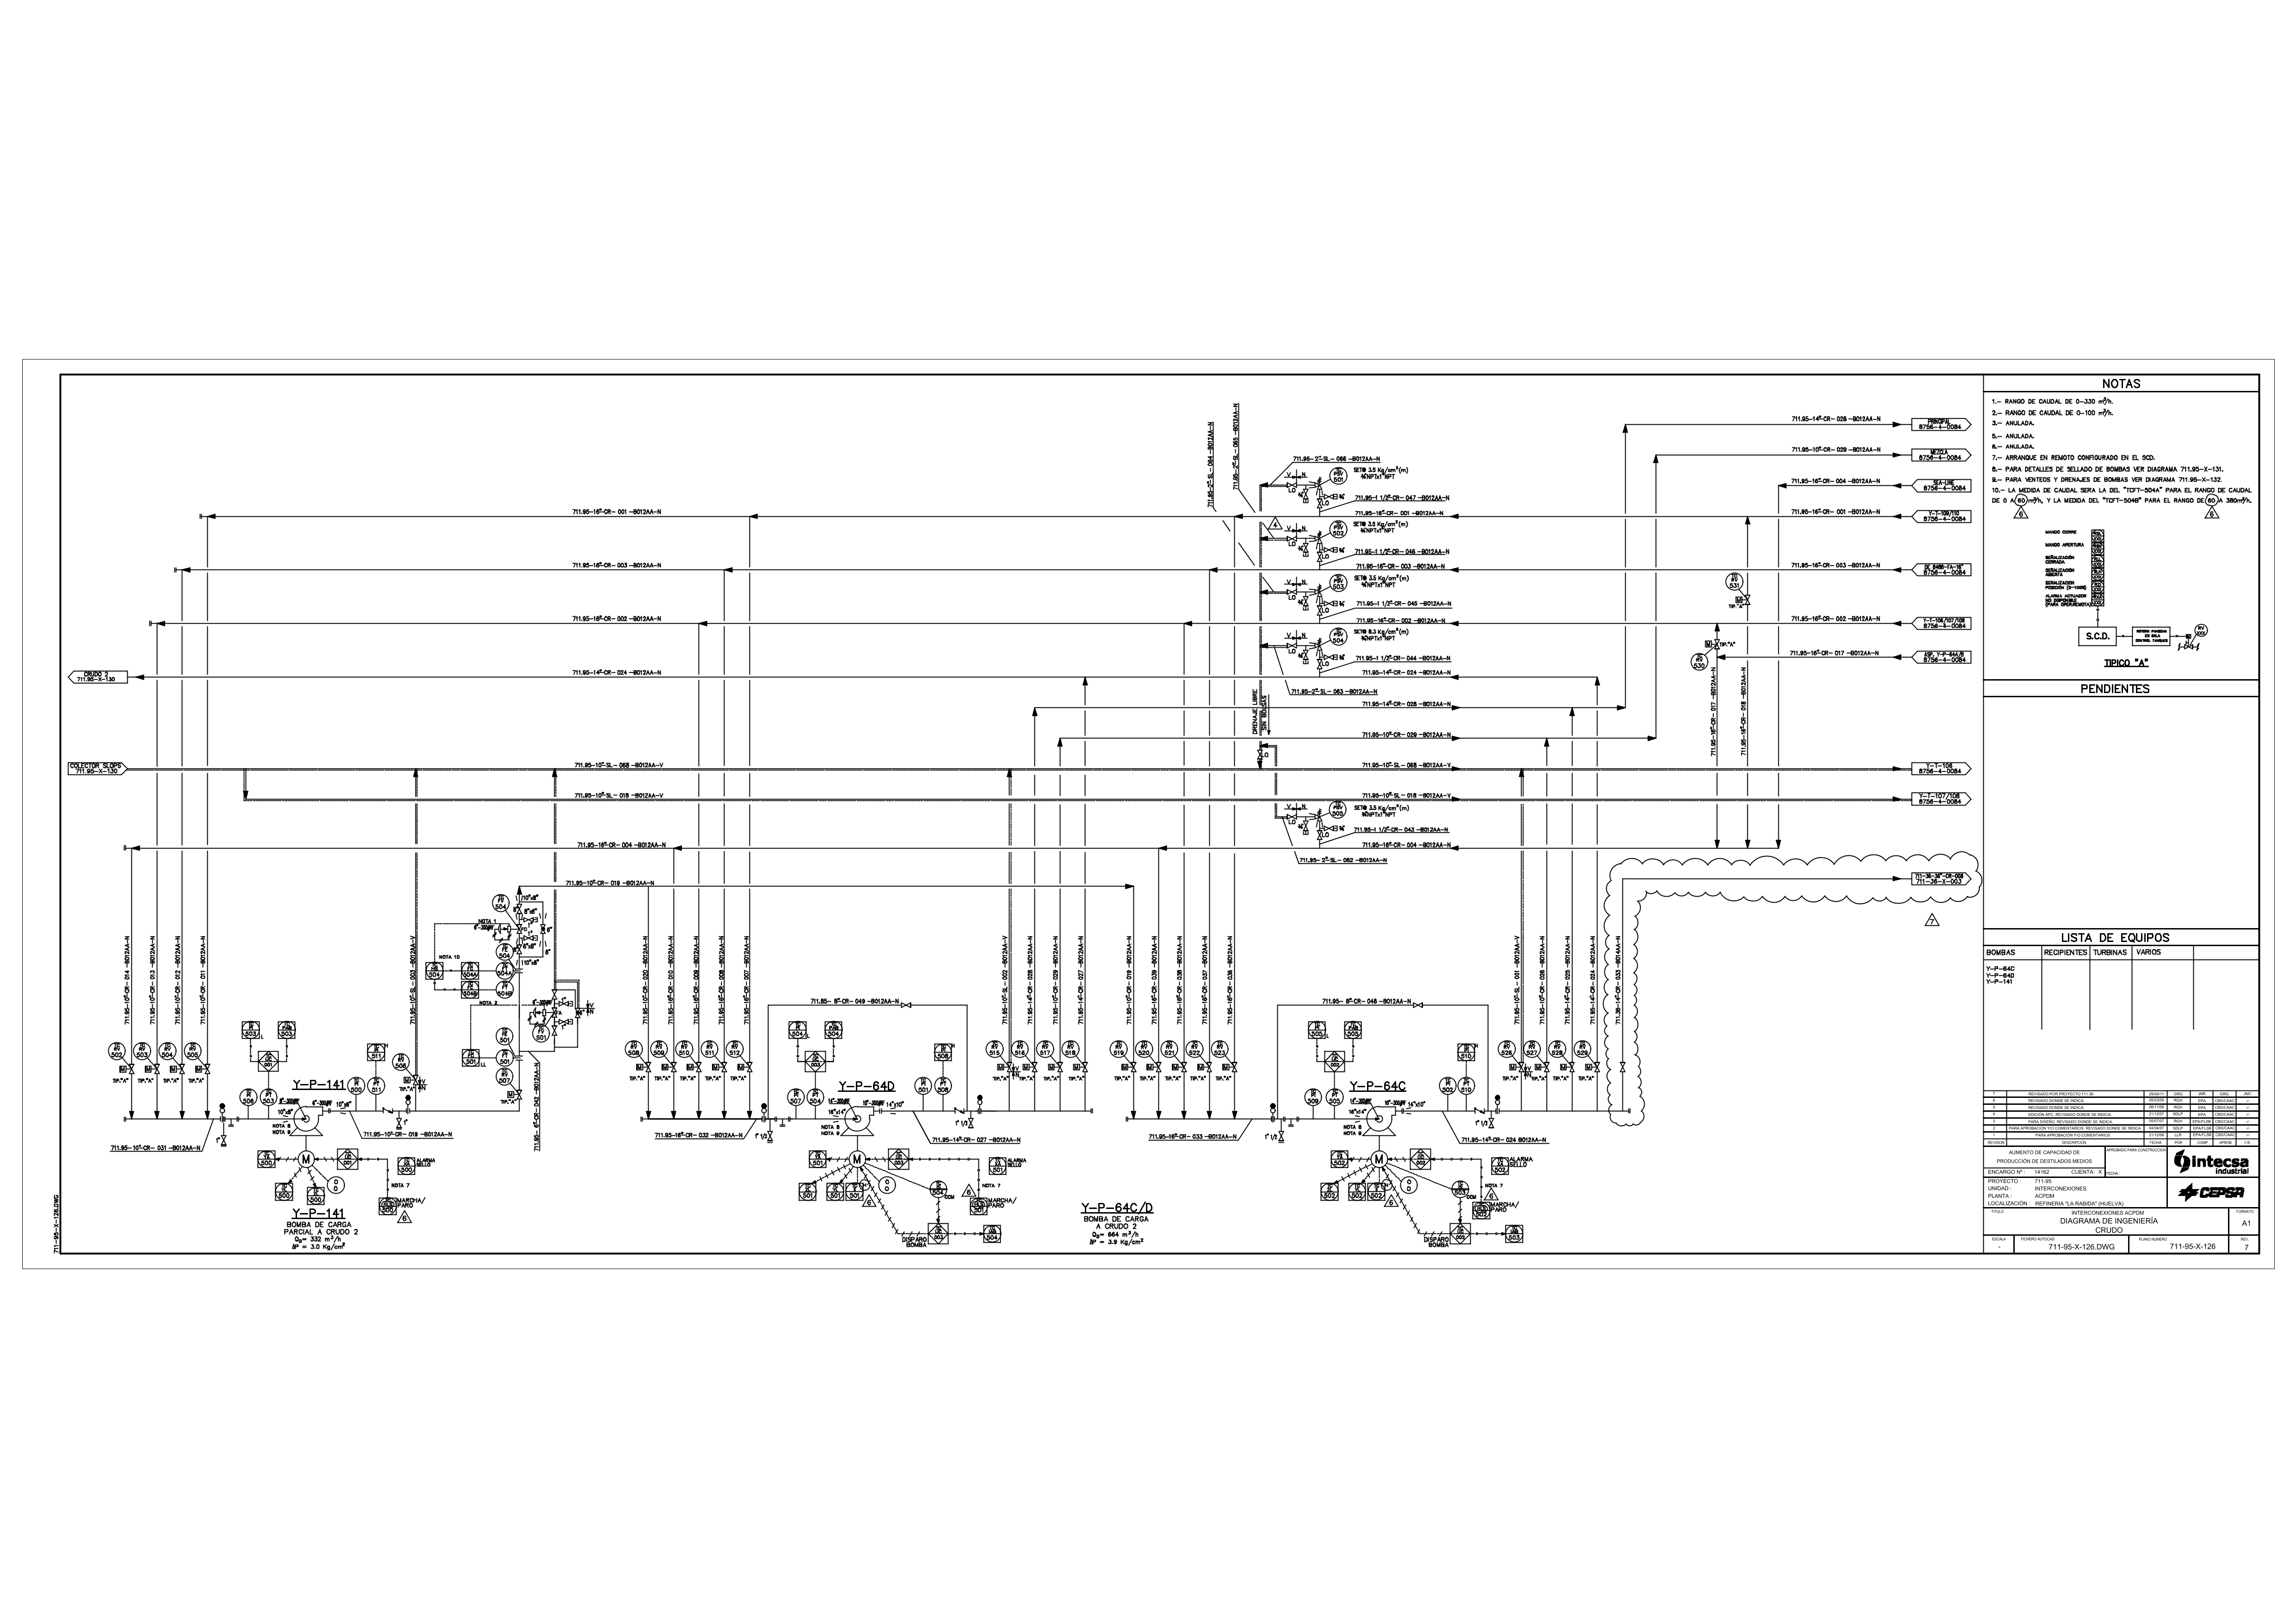Inline Instrument: (181, 1040, 202, 1063), (158, 1038, 179, 1061), (390, 1049, 411, 1071), (258, 1086, 279, 1108), (237, 1086, 258, 1108), (490, 892, 511, 915), (494, 980, 515, 1003), (495, 1024, 516, 1047), (494, 1045, 515, 1068), (494, 1064, 515, 1087), (724, 1036, 745, 1059), (701, 1036, 722, 1059), (673, 1036, 694, 1059), (933, 1075, 954, 1098), (912, 1075, 933, 1098), (1209, 1036, 1230, 1059), (1008, 1036, 1029, 1059), (1456, 1073, 1477, 1096), (1328, 571, 1349, 594), (1688, 650, 1709, 673), (105, 1040, 126, 1061), (132, 1040, 153, 1061), (365, 1077, 386, 1098), (346, 1075, 367, 1096), (531, 1022, 552, 1043), (494, 941, 515, 963), (494, 961, 515, 982), (648, 1038, 669, 1059), (805, 1086, 826, 1107), (785, 1086, 806, 1107), (1184, 1038, 1205, 1059), (1159, 1038, 1180, 1059), (1133, 1038, 1154, 1059), (1108, 1038, 1130, 1059), (1035, 1038, 1056, 1059), (1435, 1073, 1456, 1094), (1325, 1086, 1346, 1107), (1302, 1086, 1323, 1107), (1328, 799, 1349, 820), (1328, 465, 1349, 487), (1328, 520, 1349, 541), (1328, 625, 1349, 646), (625, 1035, 645, 1057), (1061, 1038, 1080, 1059), (986, 1038, 1005, 1059), (1572, 1040, 1593, 1059), (1548, 1038, 1567, 1059), (1497, 1038, 1516, 1059), (1725, 569, 1744, 590), (1521, 1040, 1542, 1057), (1451, 1180, 1469, 1198)
Panel Instrument: (1365, 1180, 1388, 1203), (822, 1180, 845, 1203), (239, 1019, 262, 1040), (395, 1154, 416, 1177), (272, 1180, 293, 1203), (1328, 1147, 1349, 1170), (982, 1223, 1003, 1245), (986, 1154, 1007, 1177), (806, 1147, 827, 1170), (822, 1019, 843, 1042), (785, 1019, 808, 1040), (458, 959, 480, 982), (422, 961, 444, 982), (1319, 1180, 1340, 1203), (1504, 1223, 1525, 1245), (1342, 1019, 1363, 1042), (845, 1180, 866, 1203), (365, 1042, 386, 1063), (276, 1019, 297, 1040), (376, 1196, 397, 1217), (306, 1186, 327, 1207), (255, 1149, 276, 1170), (798, 1180, 819, 1201), (968, 1196, 989, 1217), (931, 1042, 952, 1063), (460, 1047, 481, 1068), (458, 980, 480, 1001), (1346, 1180, 1367, 1201), (1470, 1200, 1491, 1221), (1456, 1042, 1477, 1063), (1305, 1019, 1326, 1040)
